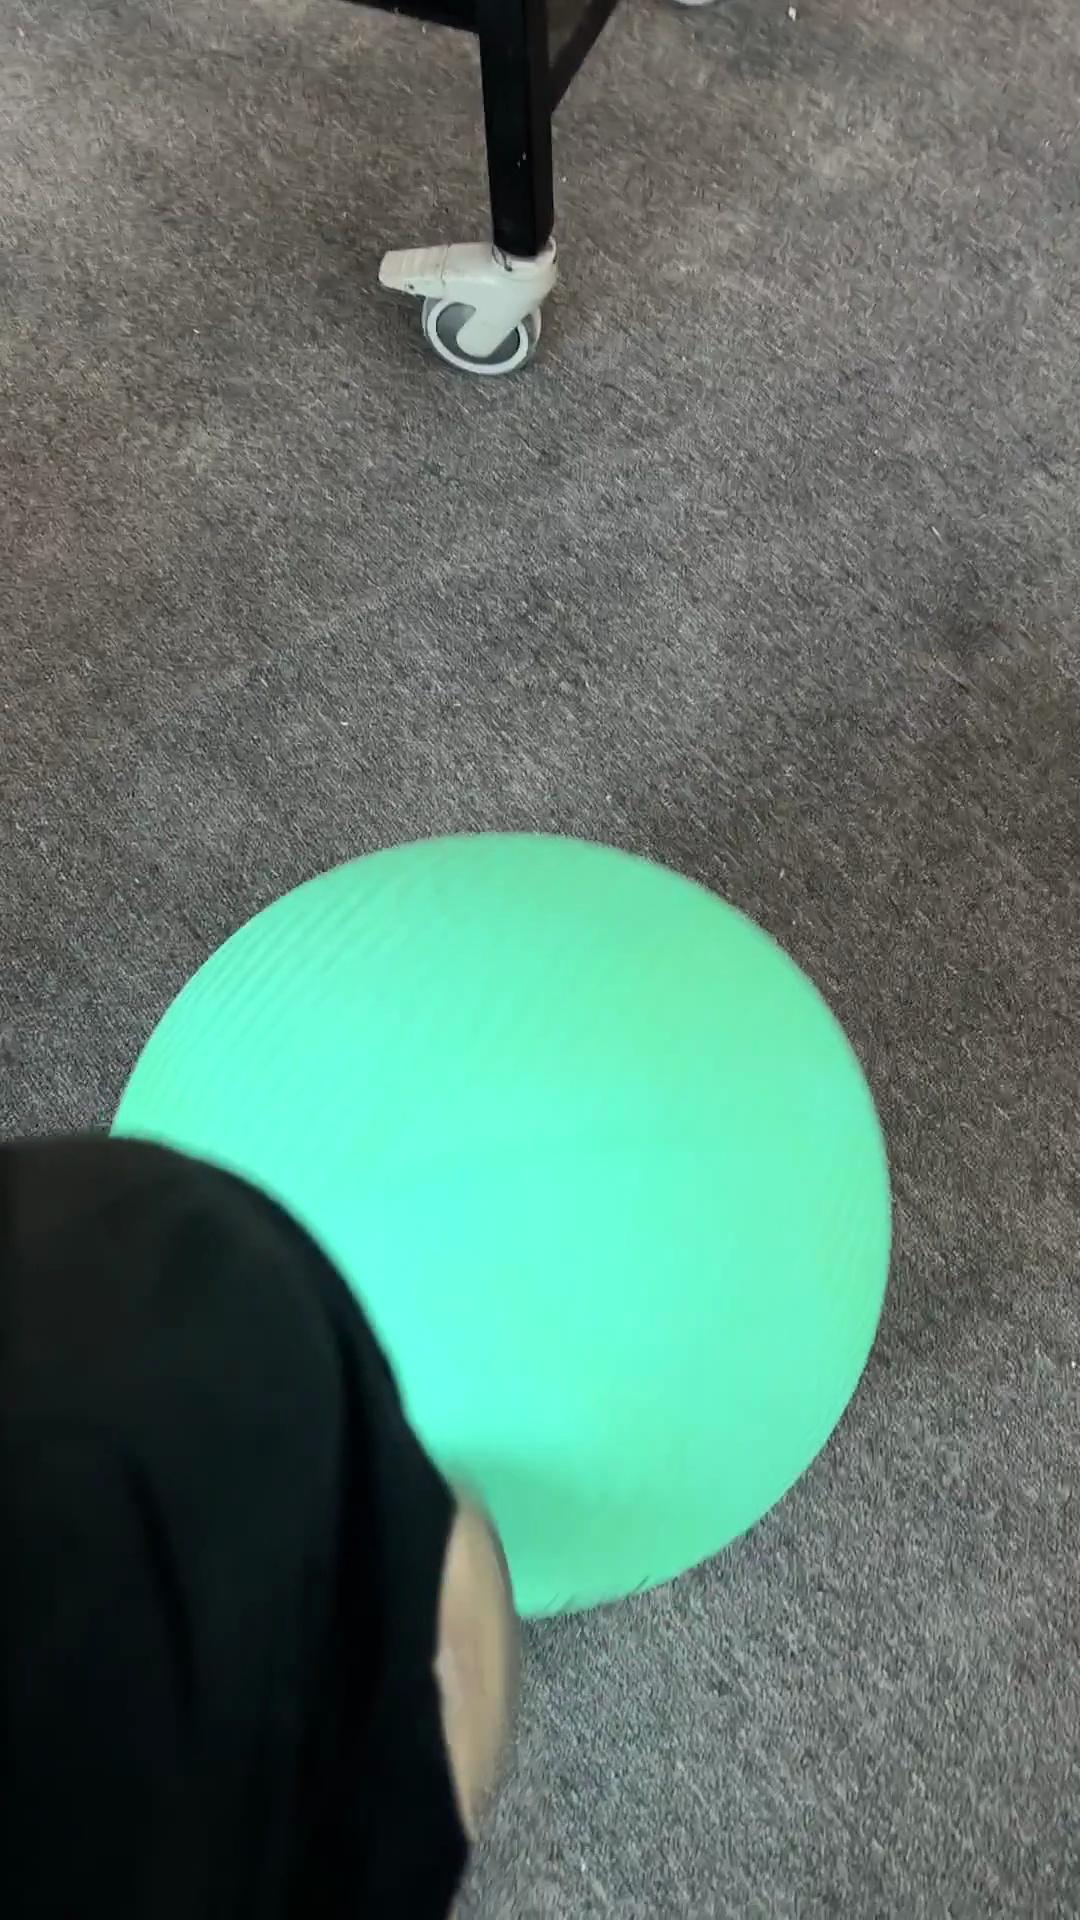ALGAE: (105, 827, 896, 1622)
